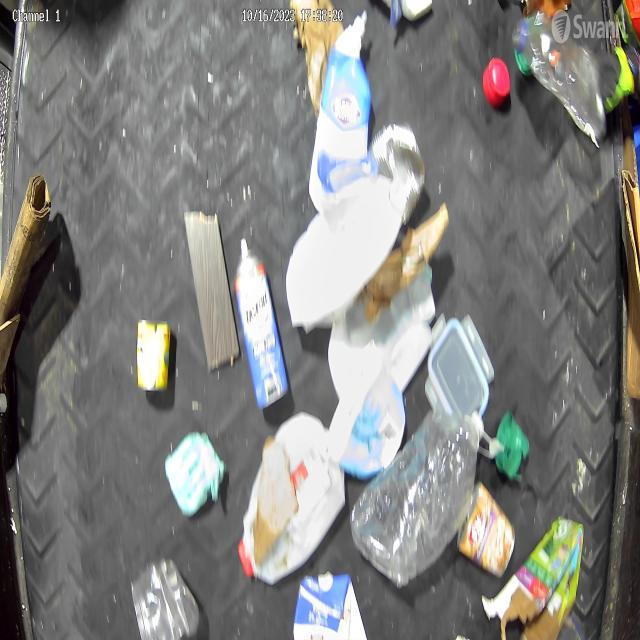can: (460, 491, 512, 571), (380, 126, 419, 204), (137, 316, 170, 398)
milk_jug: (240, 416, 344, 582), (292, 172, 394, 318)
plastic_bottle: (358, 402, 485, 582)
